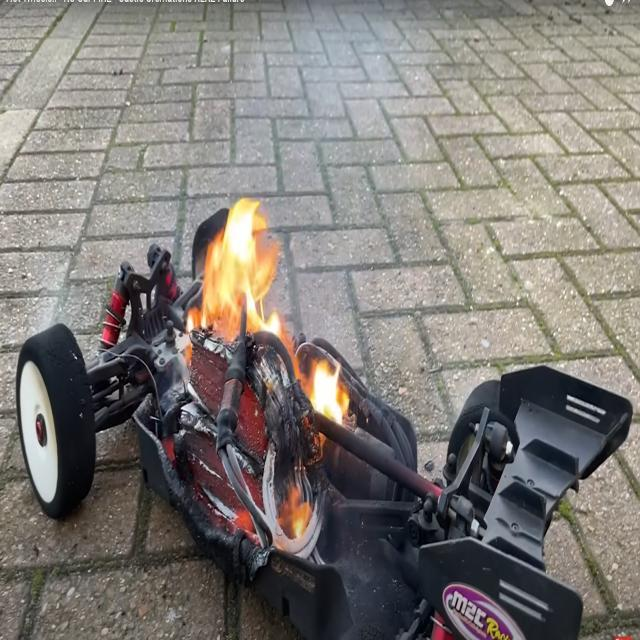Fire: (177, 186, 344, 548)
